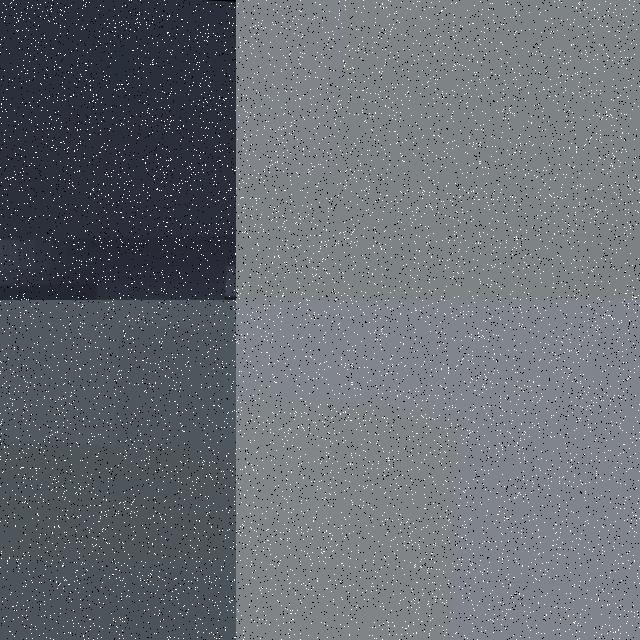drone: (0, 0, 236, 300)
